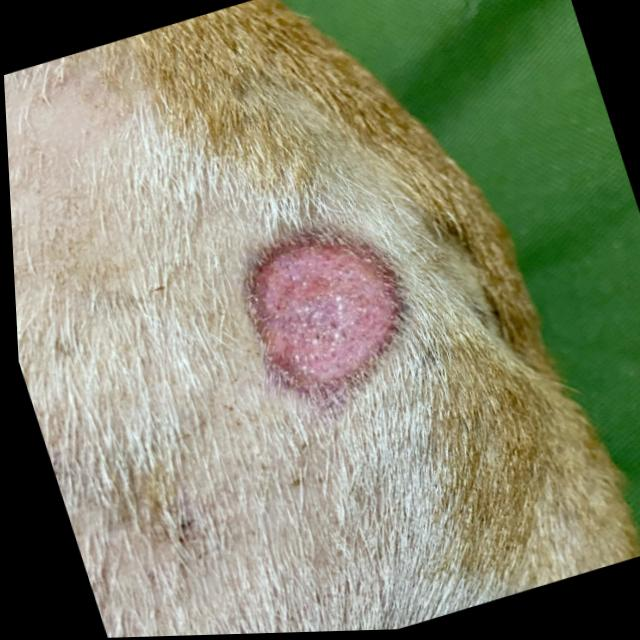ringworm: (202, 187, 441, 425)
